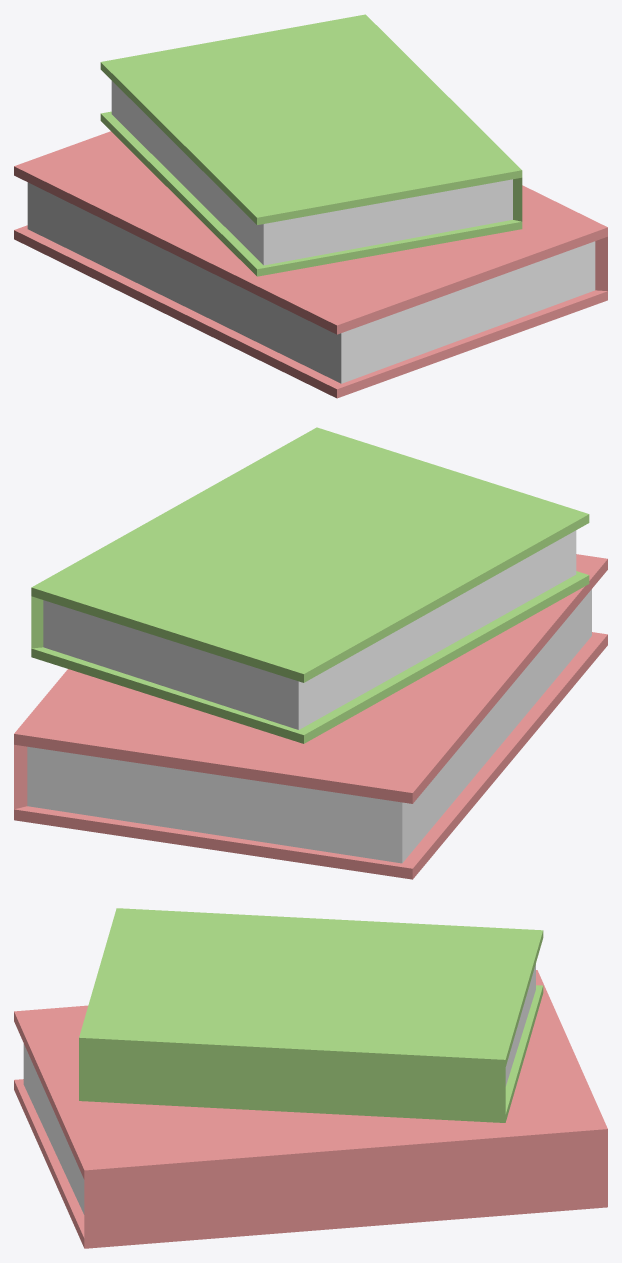
Rendered from BooksModified.fbx.
The picture shows the model from 3 angles, top to bottom: view 1: azimuth 30°, elevation 25°; view 2: azimuth 150°, elevation 25°; view 3: azimuth 270°, elevation 25°; orthographic projection. The views are drawn at different scales.
Parts seen in each view (by area): view 1: Books.001, Books.002; view 2: Books.001, Books.002; view 3: Books.001, Books.002.
Part boxes in pixels (<box>): Books.001: <box>100,14,522,276</box>; Books.002: <box>14,131,607,398</box>; Books.001: <box>31,427,589,743</box>; Books.002: <box>14,554,607,879</box>; Books.001: <box>79,908,543,1122</box>; Books.002: <box>14,970,607,1248</box>.
Bounding box in the file's own units: 25.61 × 9.81 × 32.06.
